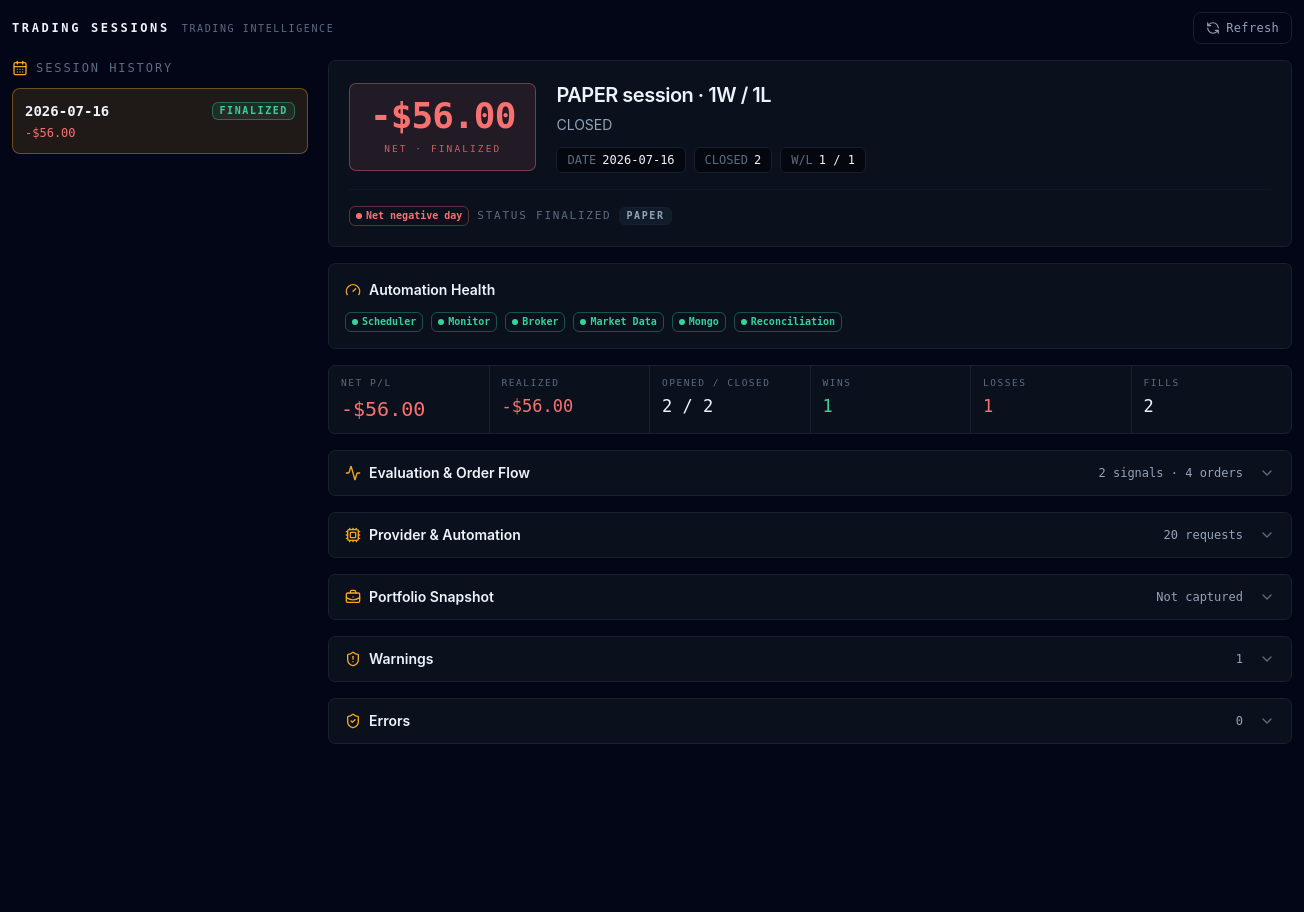
Test case: TradingSessionsPage › renders finalized session values from captured evidence
This screenshot has width=1304, height=912.
Expected: the heading "Trading Sessions" is shown, x1=12 y1=20 x2=170 y2=36
Expected: the text "2026-07-16" below "Session History" is shown, x1=25 y1=103 x2=109 y2=119
Missing portfolio snapshot honest copy (Portfolio Snapshot is collapsed by default)
Click the button "Portfolio Snapshot Not captured": (431, 597) x1=329 y1=575 x2=1291 y2=619
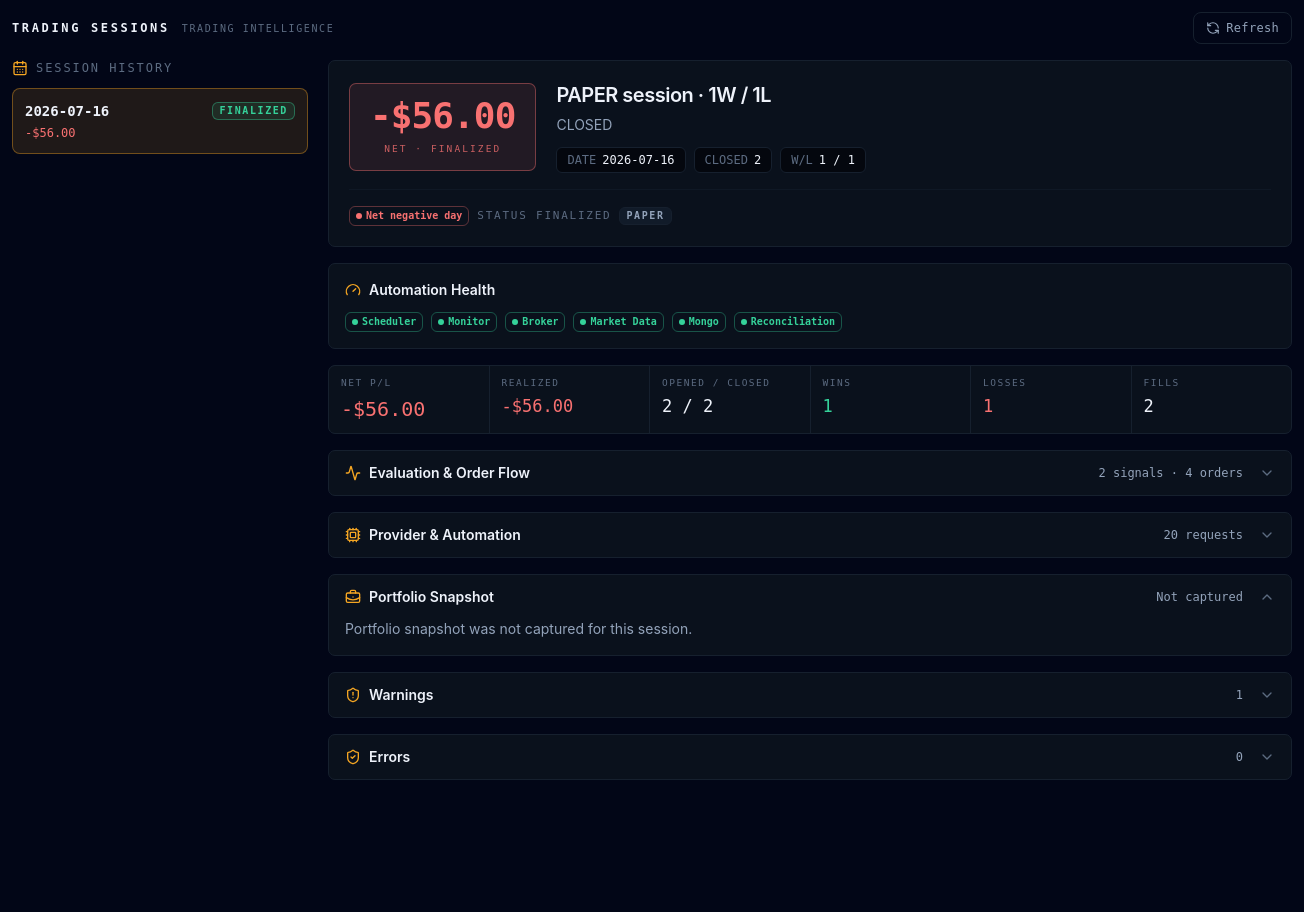
Result: the text "Portfolio snapshot was not captured for this session." is shown at x1=345 y1=620 x2=692 y2=637
Warning surfaced through EventList, not silently sliced (Warnings panel collapsed by default)
Click the button "Warnings 1": (401, 695) x1=329 y1=673 x2=1291 y2=717
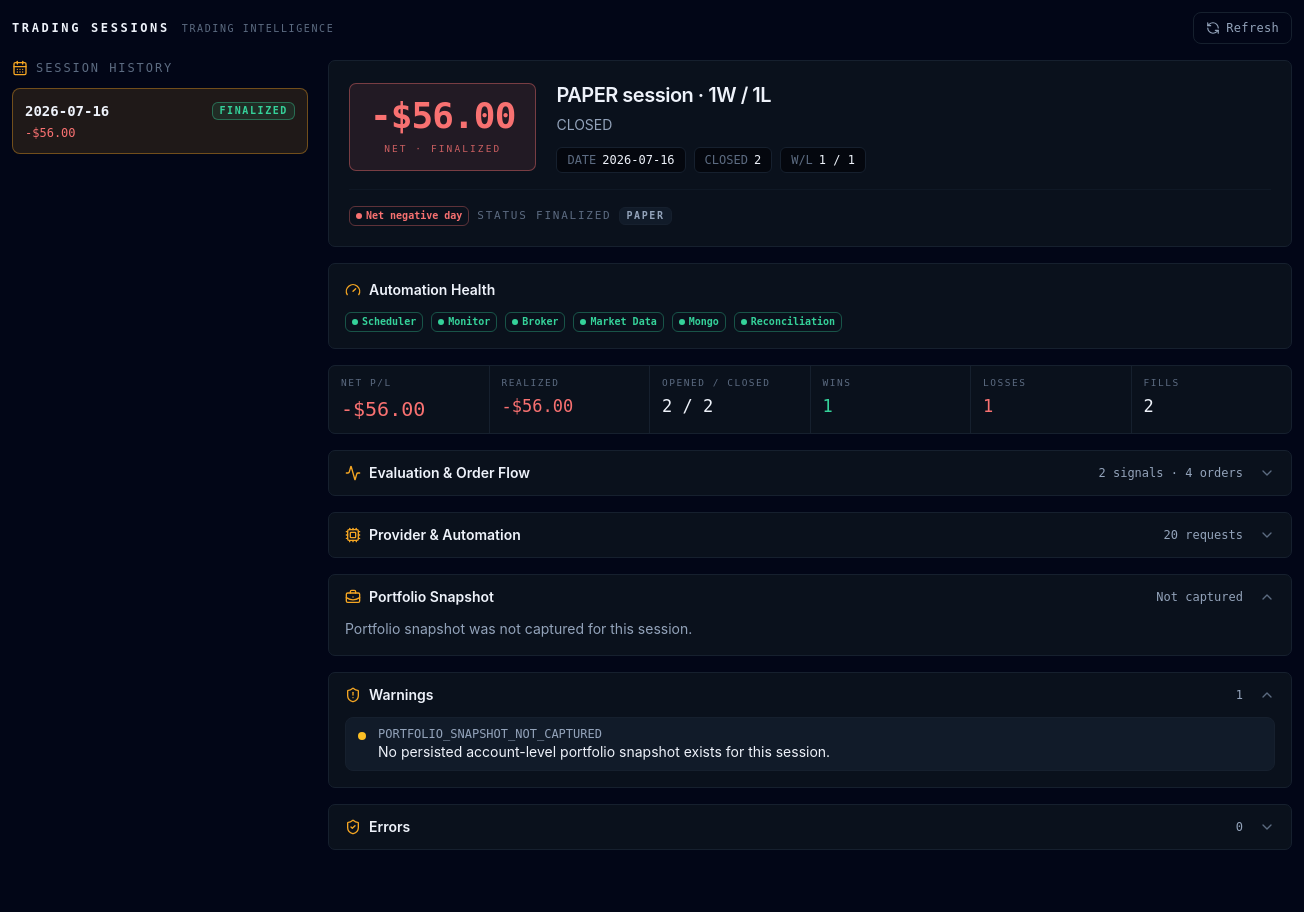
Result: the text "PORTFOLIO_SNAPSHOT_NOT_CAPTURED" is shown at x1=378 y1=727 x2=602 y2=741
